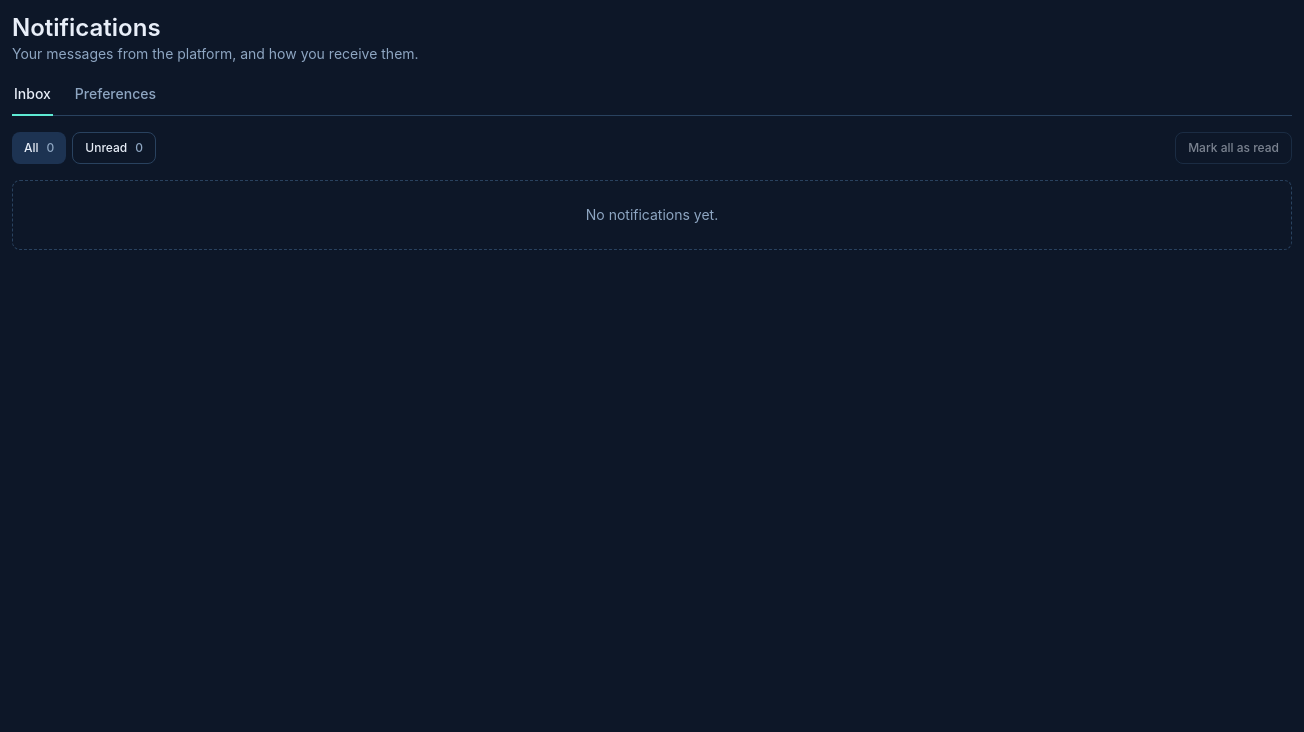
Test: NotificationsPage › has the inbox and the preferences as its two tabs
Expected: the tab "Inbox" is shown, [12,80,53,116]
Click the tab "Preferences" at (116, 98), box [73,80,158,116]
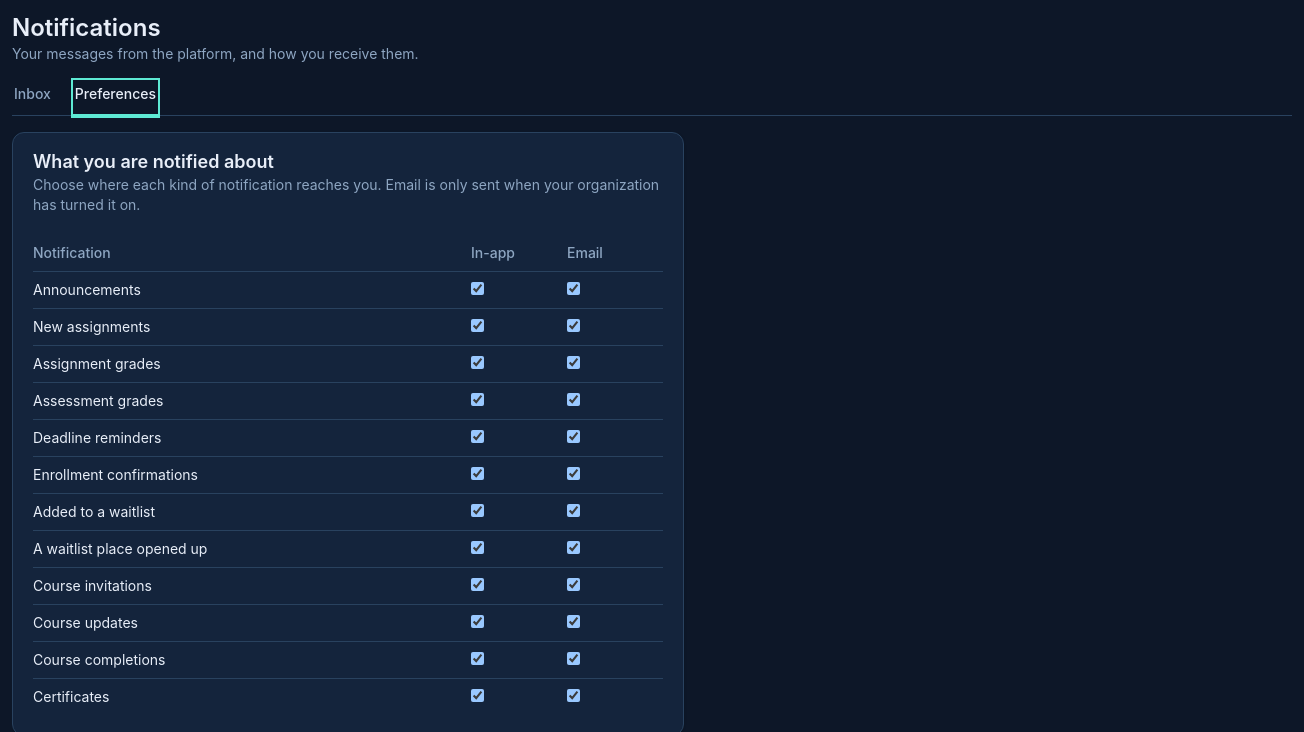
Now the heading "What you are notified about" is shown, box [33,151,274,172]
